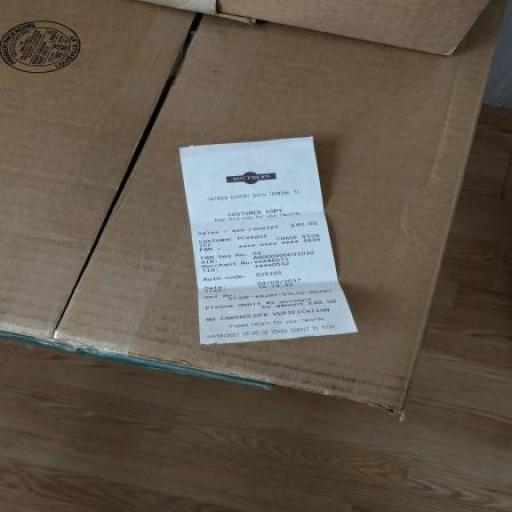paper: (145, 113, 417, 364)
